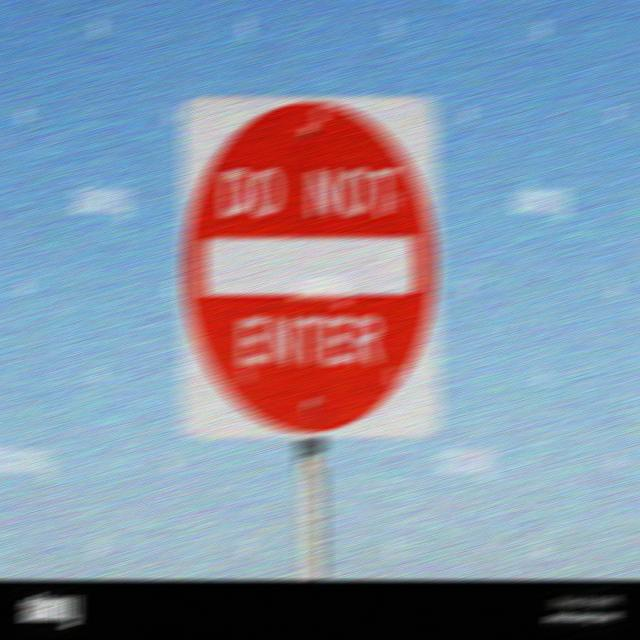doNotEnter: (175, 96, 439, 438)
